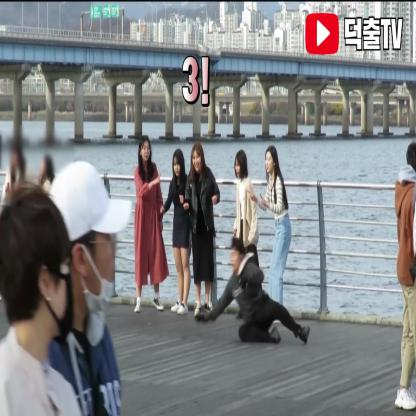Fall_Down: (192, 233, 313, 353)
